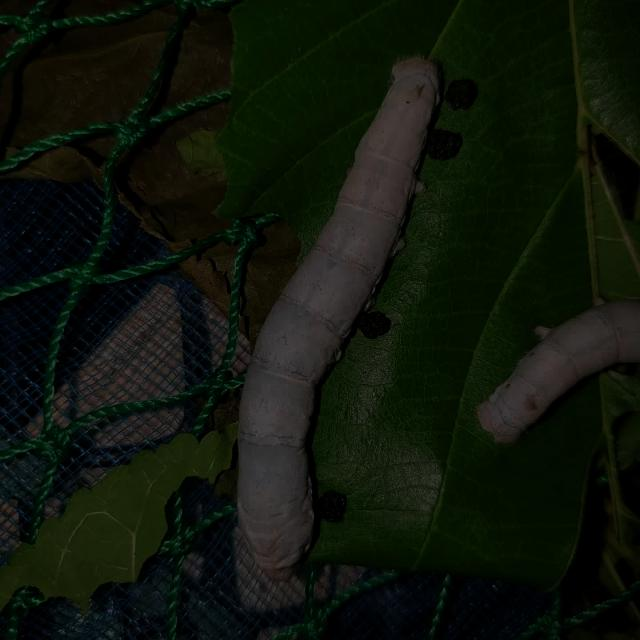Healthy: (201, 39, 447, 590)
